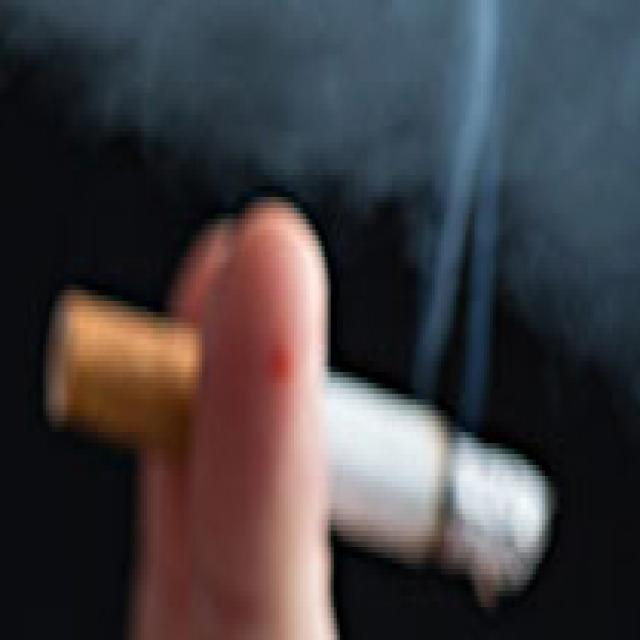smoking: (43, 285, 556, 605)
